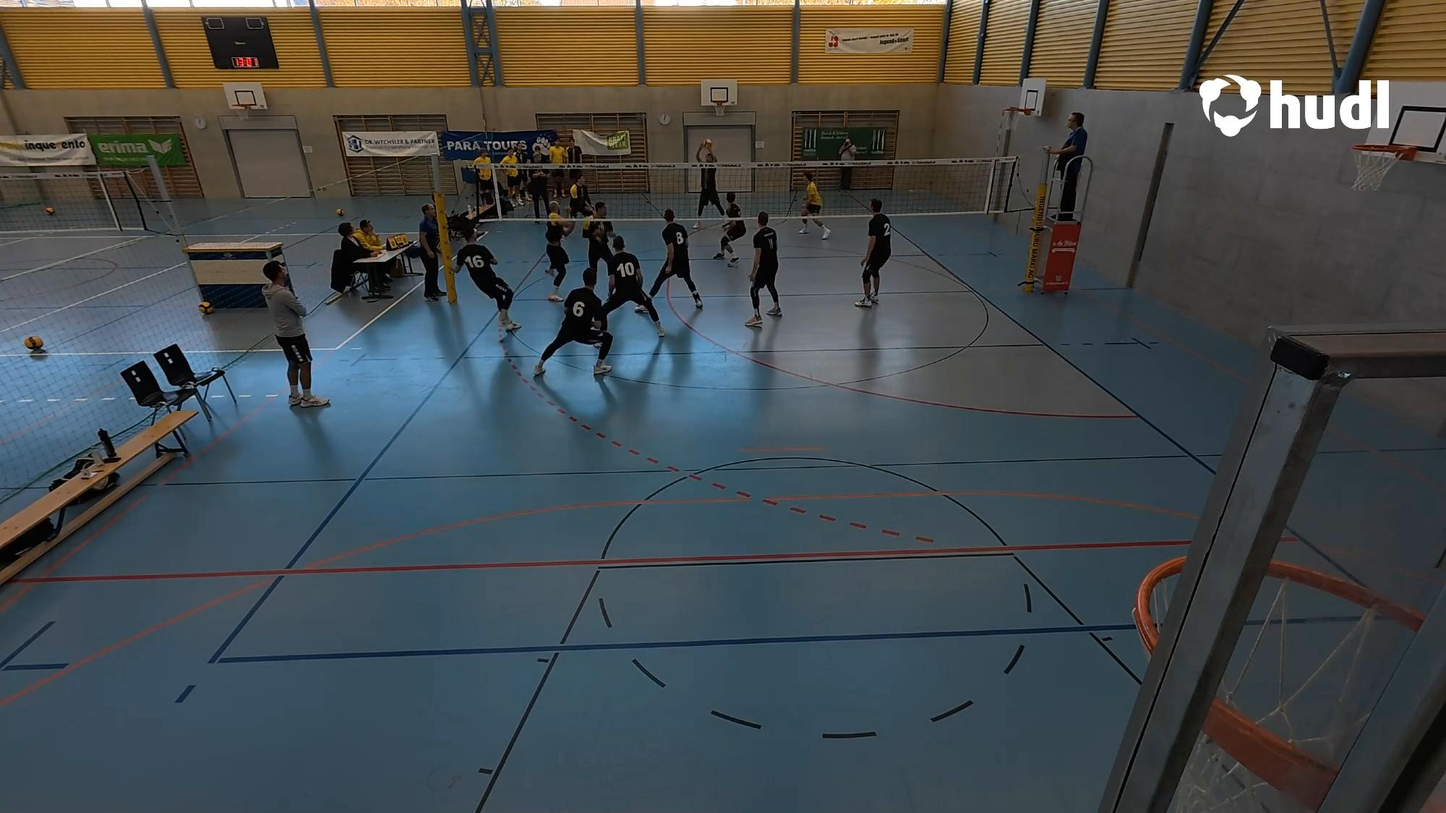difesa: (695, 136, 724, 232)
